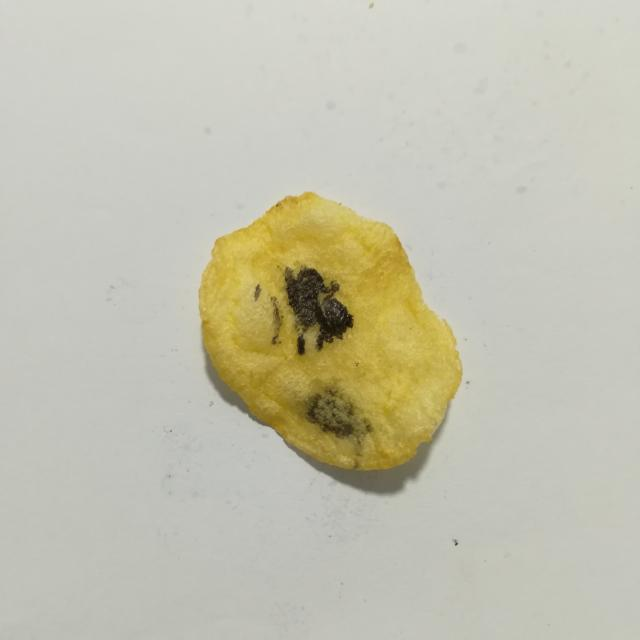chip: (199, 193, 462, 470)
damaged: (285, 266, 353, 355)
semi-damaged: (298, 387, 371, 455), (270, 296, 284, 344), (254, 284, 261, 301)
